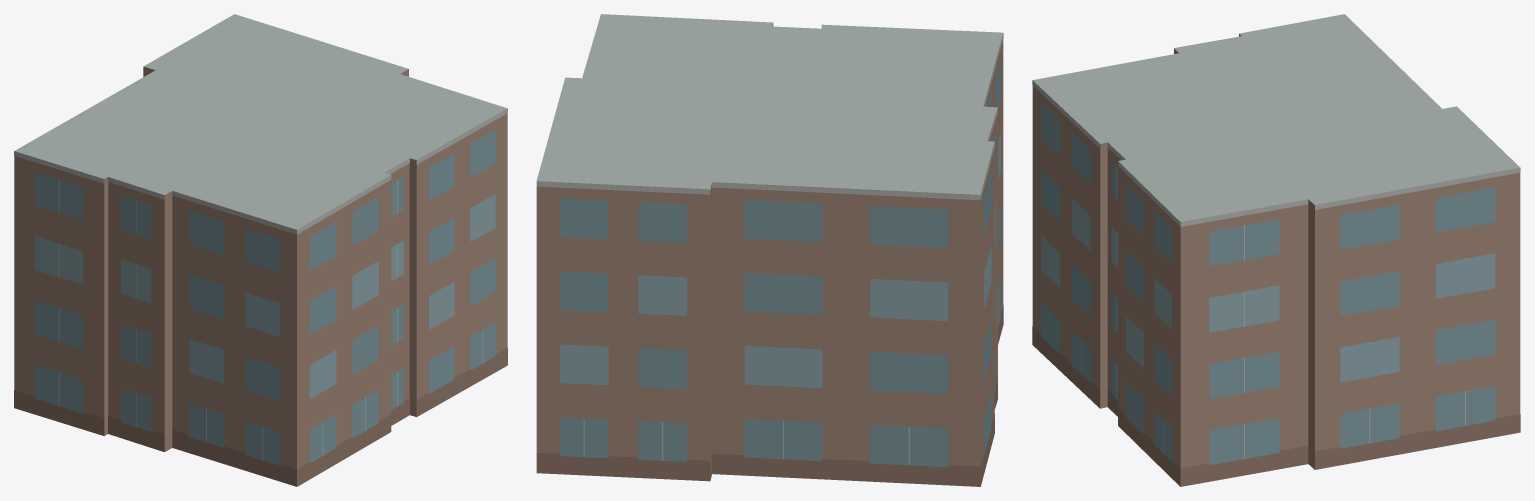
Rendered from survey-upis-32599926.glb.
3 renders of one model, left to right at view 1: azimuth 30°, elevation 25°; view 2: azimuth 150°, elevation 25°; view 3: azimuth 270°, elevation 25°, orthographic. The views are drawn at different scales.
Parts seen in each view (by area): view 1: survey-upis-32599926.tmp; view 2: survey-upis-32599926.tmp; view 3: survey-upis-32599926.tmp.
Boxes of the visible parts, bbox=[...] form: survey-upis-32599926.tmp: bbox=[14, 14, 507, 486]; survey-upis-32599926.tmp: bbox=[536, 14, 1003, 486]; survey-upis-32599926.tmp: bbox=[1032, 14, 1520, 486].
Size of the model in its own units: 22.26 by 13.2 by 22.06.
